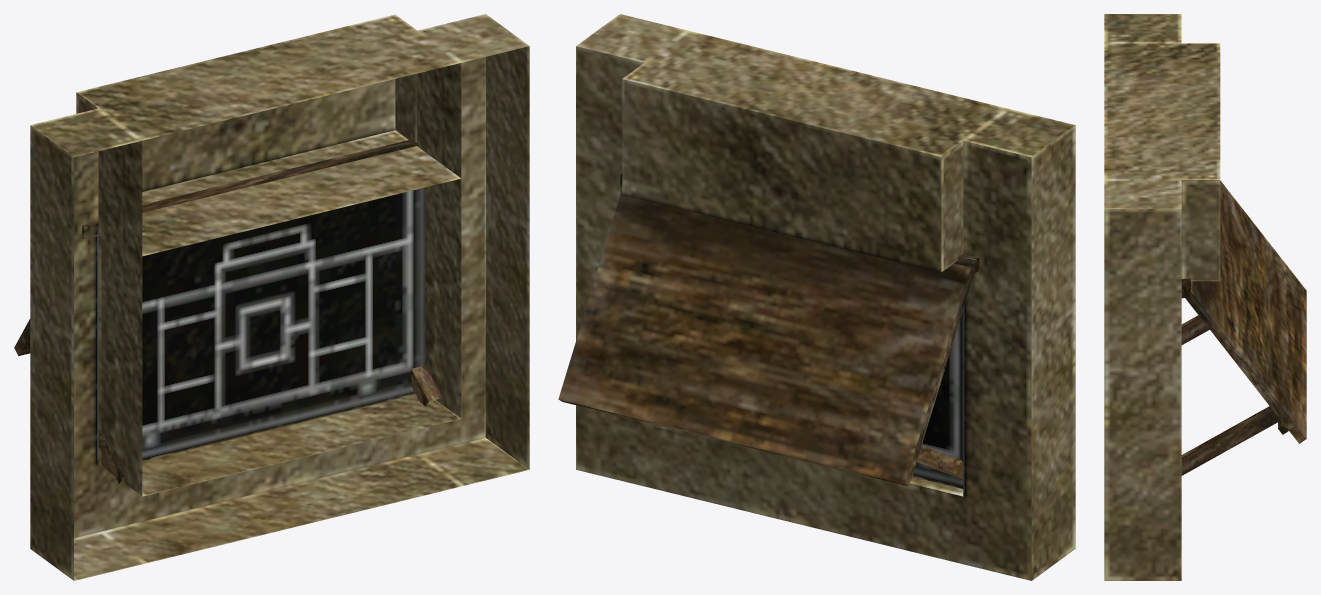
The model's file is hrt_window4.glb.
3 views of the same model, side by side, from view 1: azimuth 30°, elevation 25°; view 2: azimuth 150°, elevation 25°; view 3: azimuth 270°, elevation 25° (orthographic). The views are drawn at different scales.
Parts seen in each view (by area): view 1: hrt_window4-col; view 2: hrt_window4-col; view 3: hrt_window4-col.
Part boxes in pixels (x1,y1,x2,y2): hrt_window4-col: [14, 14, 529, 580]; hrt_window4-col: [558, 14, 1075, 580]; hrt_window4-col: [1104, 14, 1306, 580].
Size of the model in its own units: 1.31 by 1.17 by 0.5749.
Materials: 1 (1 with a texture image).
